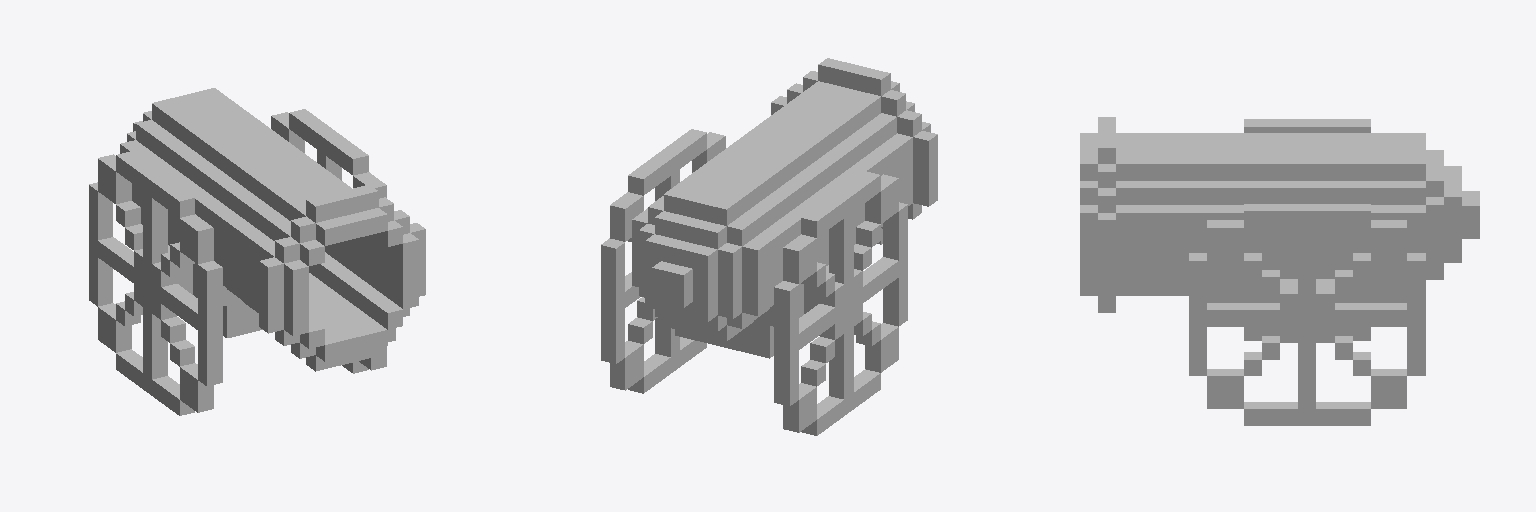
Rendered from cannon.obj.
3 views of the same model, side by side, from view 1: azimuth 30°, elevation 25°; view 2: azimuth 150°, elevation 25°; view 3: azimuth 270°, elevation 25° (orthographic).
Parts seen in each view (by area): view 1: object 1; view 2: object 1; view 3: object 1.
Part boxes in pixels (bbox=[...]): object 1: bbox=[89, 88, 425, 415]; object 1: bbox=[601, 58, 937, 435]; object 1: bbox=[1080, 117, 1479, 425].
Bounding box in the file's own units: 1.2 × 1.5 × 2.2.